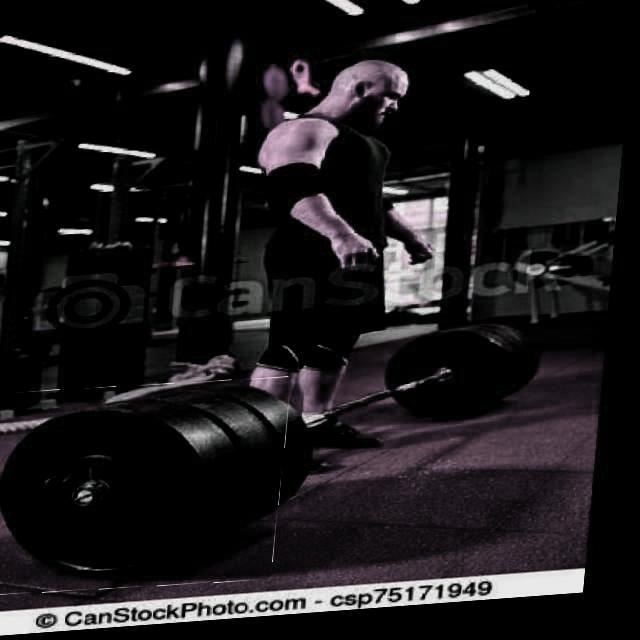barbell: (1, 380, 300, 600)
